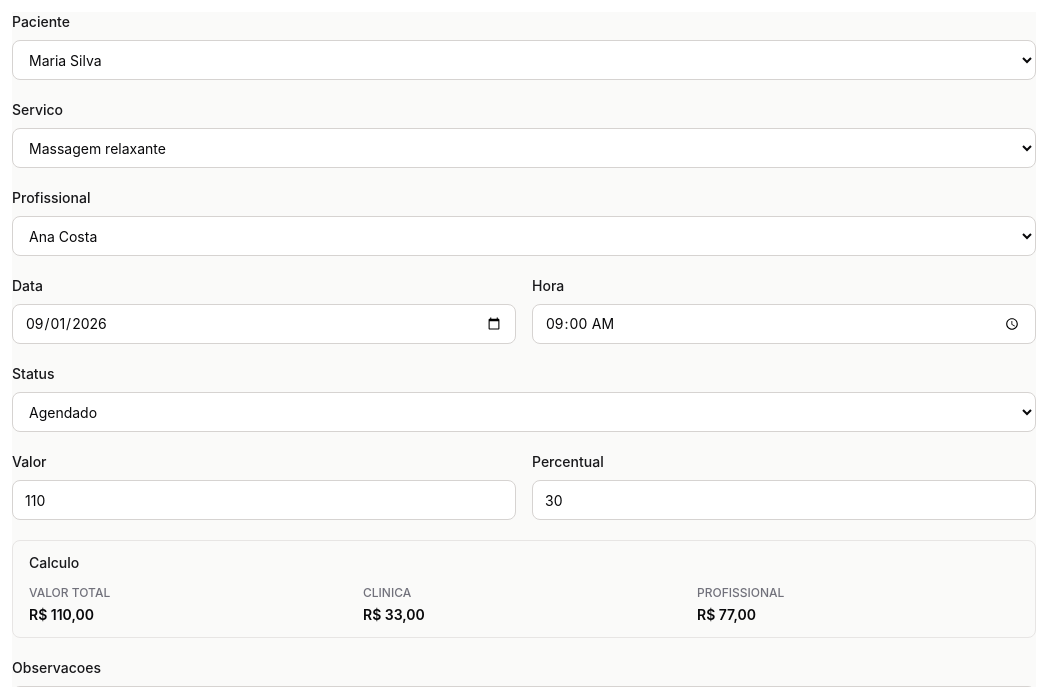
Scenario: AppointmentForm mobile UX › segue a ordem mobile, usa alvos de 44px e recalcula ao selecionar serviço
Select "Drenagem linfática" in the dropdown labelled "Servico": (524, 148) [12,128,1036,168]
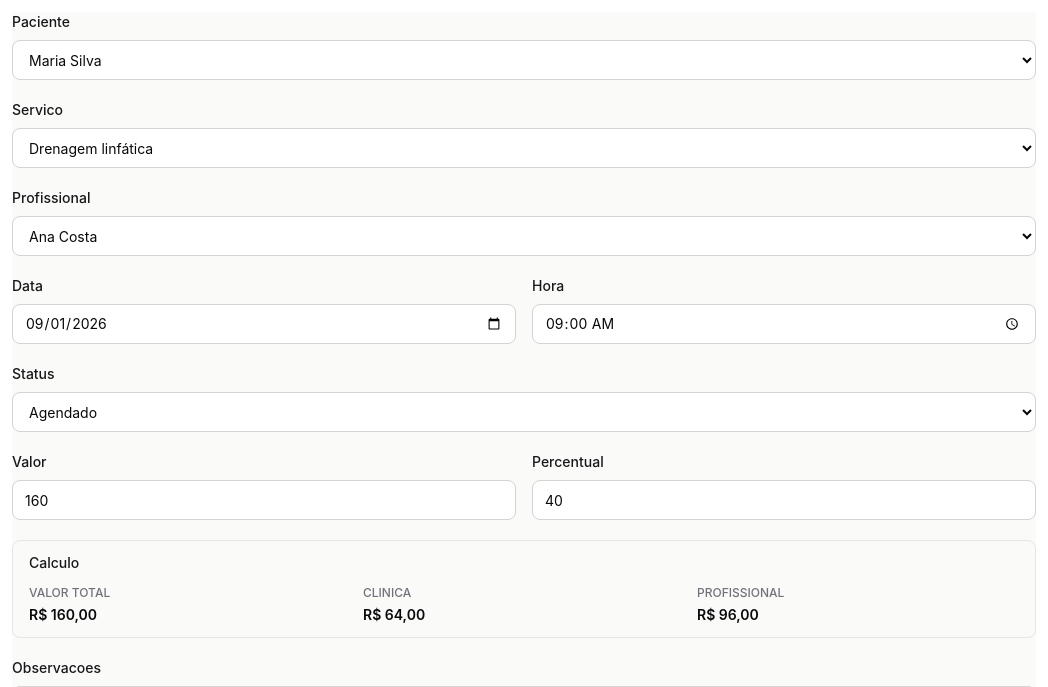
Expected: the number field labelled "Valor" holds "160", [12,480,516,520]
Expected: the number field labelled "Percentual" holds "40", [532,480,1036,520]
Expected: the text "R$ 160,00" is shown, [29,606,97,623]
